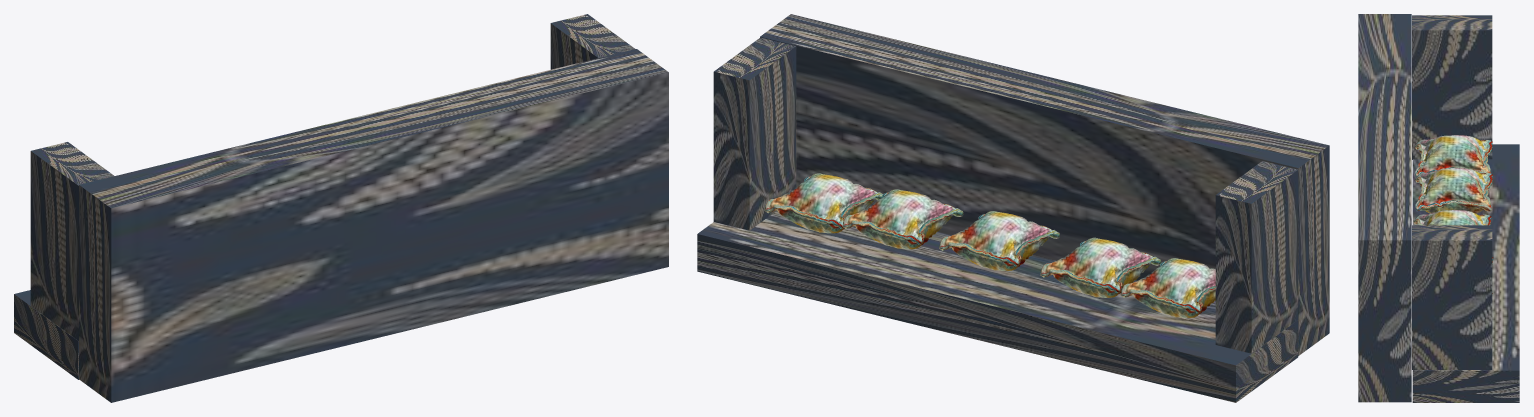
Rendered from Sofaobj.glb.
3 renders of one model, left to right at view 1: azimuth 30°, elevation 25°; view 2: azimuth 150°, elevation 25°; view 3: azimuth 270°, elevation 25°, orthographic. The views are drawn at different scales.
Visible parts, largest first — view 1: Cube, Cube.002, Cube.001, Cube.003; view 2: Cube, Cube.003, Cube.002, Cube.001, Cube.007, Cube.006, Cube.005, Cube.008, Cube.004; view 3: Cube, Cube.001, Cube.003, Cube.002, Cube.005, Cube.004, Cube.006.
Boxes of the visible parts, bbox=[...] form: Cube: bbox=[79, 49, 668, 402]; Cube.002: bbox=[30, 142, 114, 341]; Cube.001: bbox=[550, 14, 634, 69]; Cube.003: bbox=[14, 290, 78, 379]; Cube: bbox=[760, 14, 1329, 355]; Cube.003: bbox=[697, 210, 1298, 402]; Cube.002: bbox=[1215, 161, 1298, 353]; Cube.001: bbox=[713, 37, 796, 230]; Cube.007: bbox=[842, 189, 963, 249]; Cube.006: bbox=[939, 211, 1059, 270]; Cube.005: bbox=[1040, 237, 1161, 297]; Cube.008: bbox=[764, 173, 882, 233]; Cube.004: bbox=[1120, 258, 1215, 317]; Cube: bbox=[1358, 14, 1411, 402]; Cube.001: bbox=[1412, 225, 1492, 369]; Cube.003: bbox=[1412, 144, 1519, 402]; Cube.002: bbox=[1412, 15, 1492, 159]; Cube.005: bbox=[1415, 168, 1492, 213]; Cube.004: bbox=[1415, 135, 1492, 177]; Cube.006: bbox=[1413, 209, 1491, 225].
Bounding box in the file's own units: 6 × 2.01 × 1.81.
Materials: 9 (9 with a texture image).
